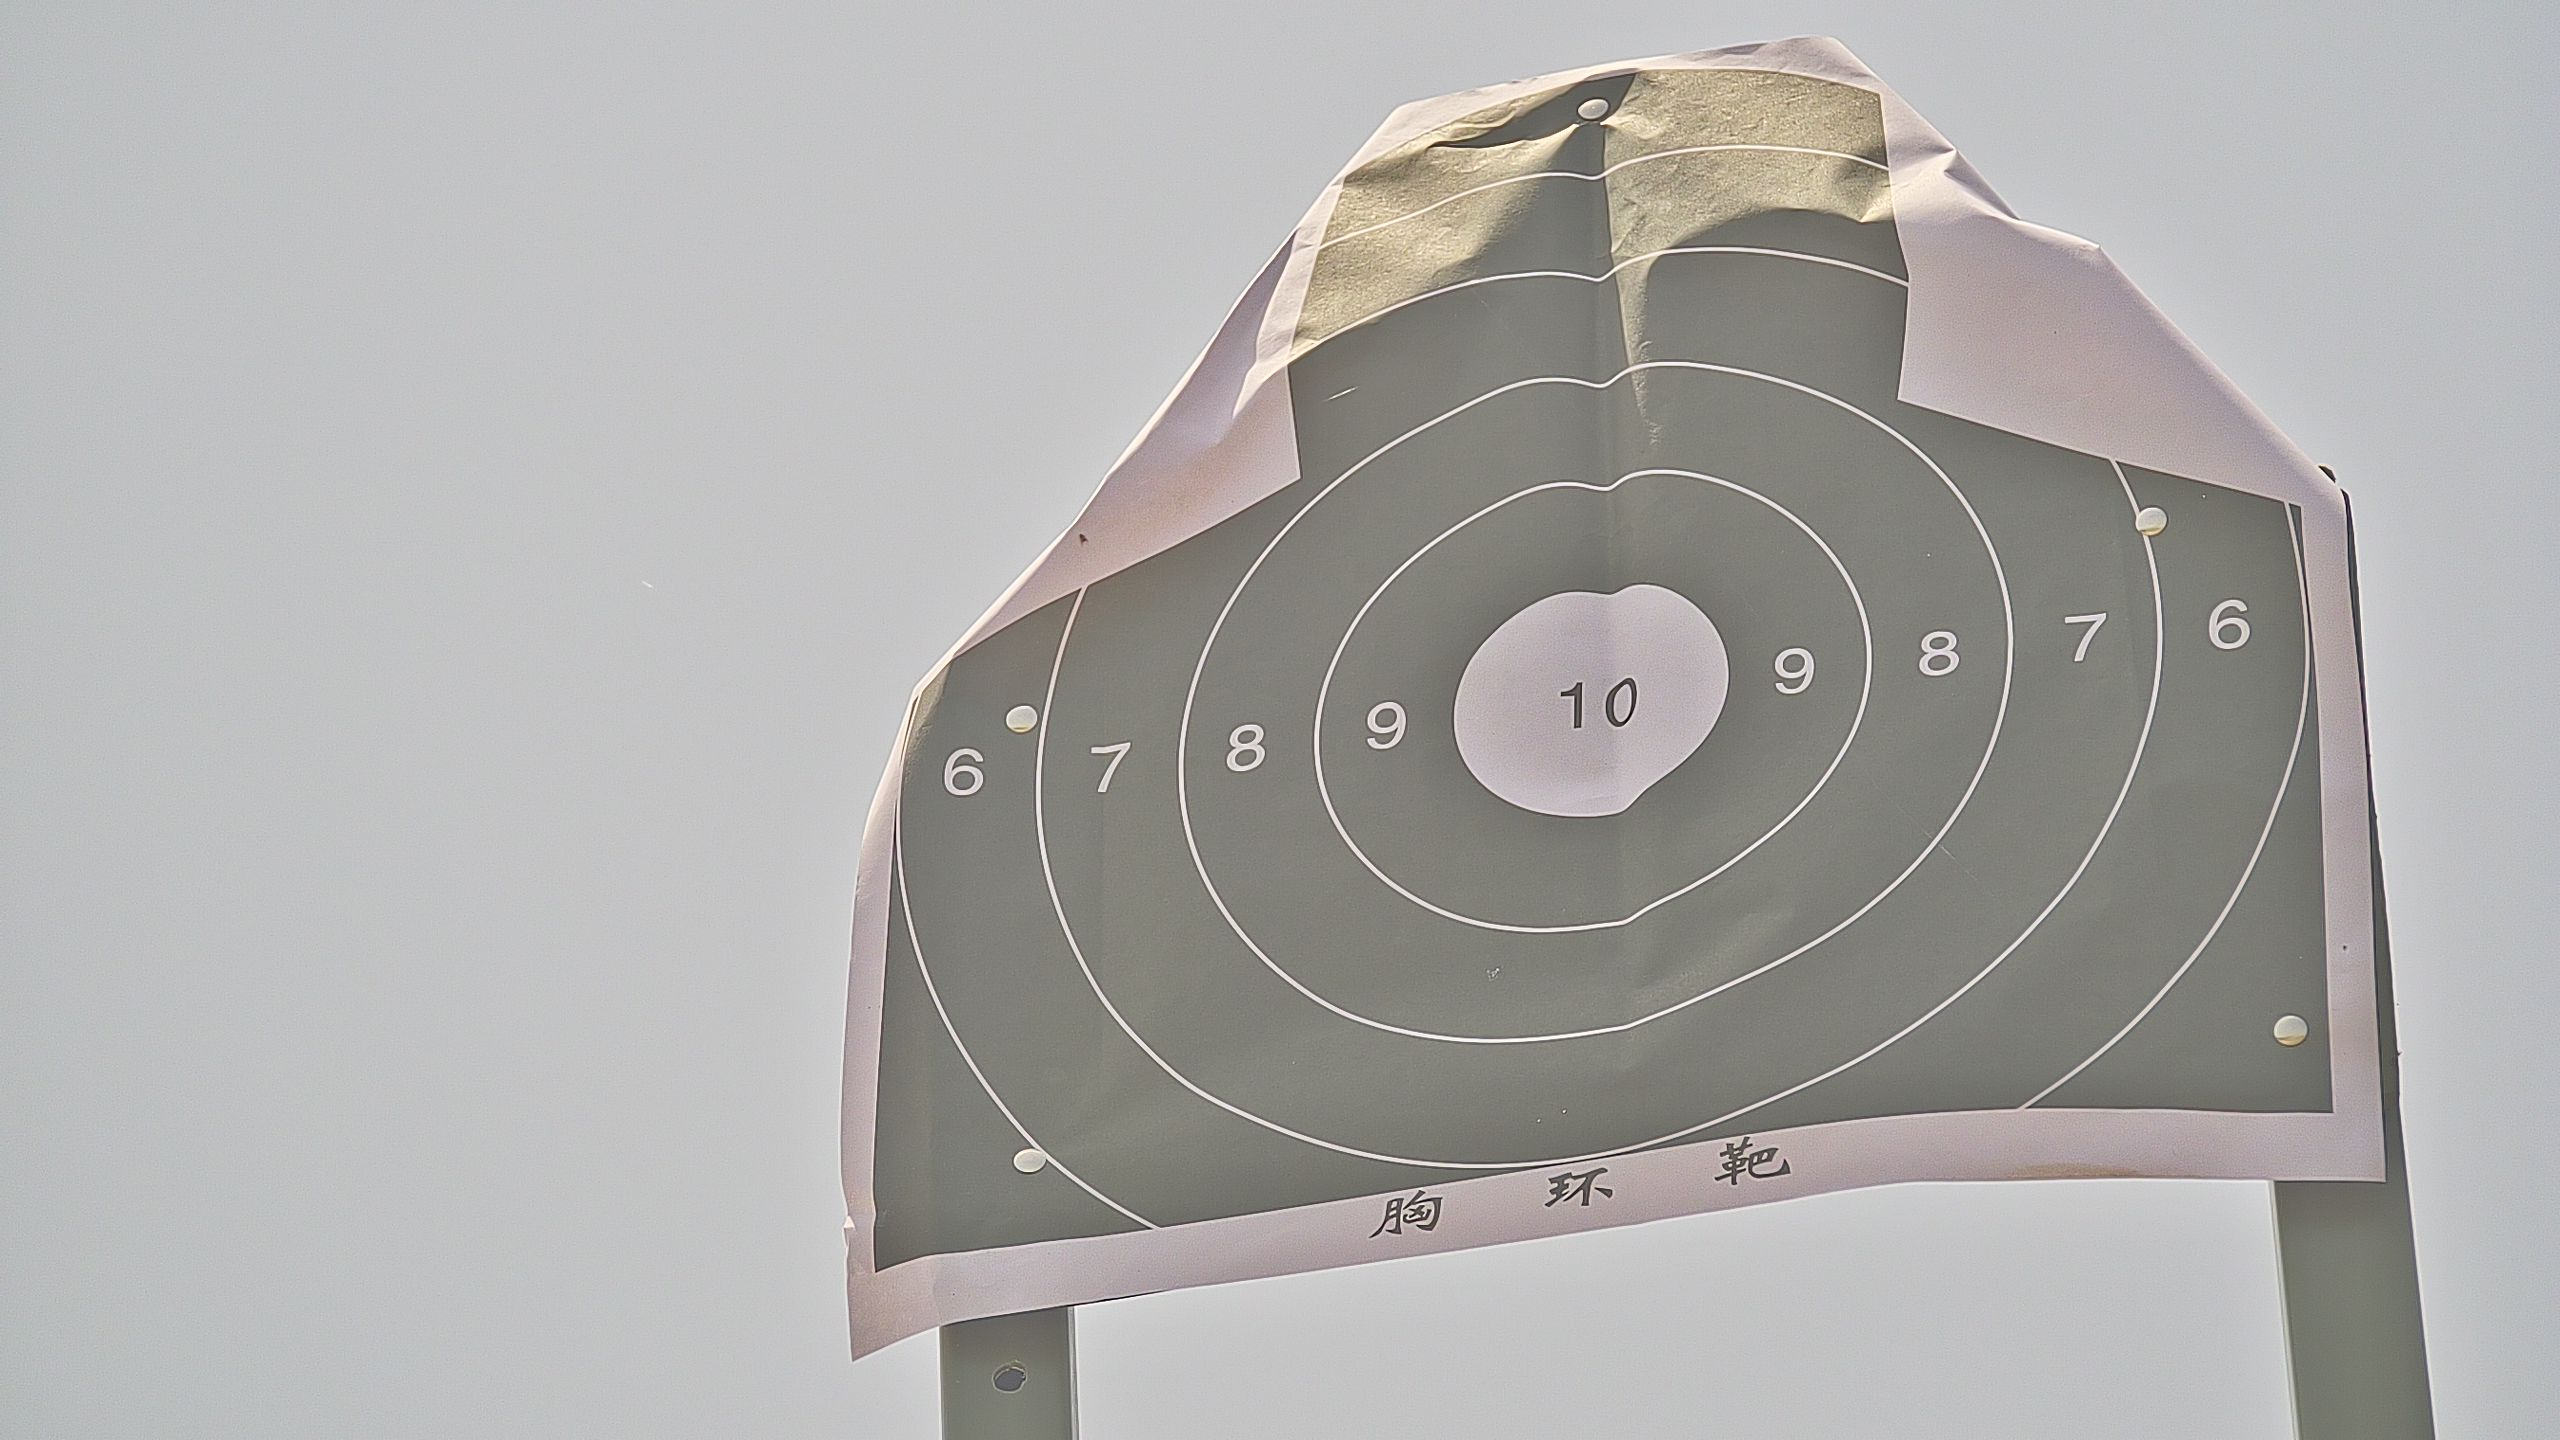kernel: (1589, 700, 1593, 707)
target: (874, 81, 2342, 1262)
ten: (1451, 578, 1732, 823)
